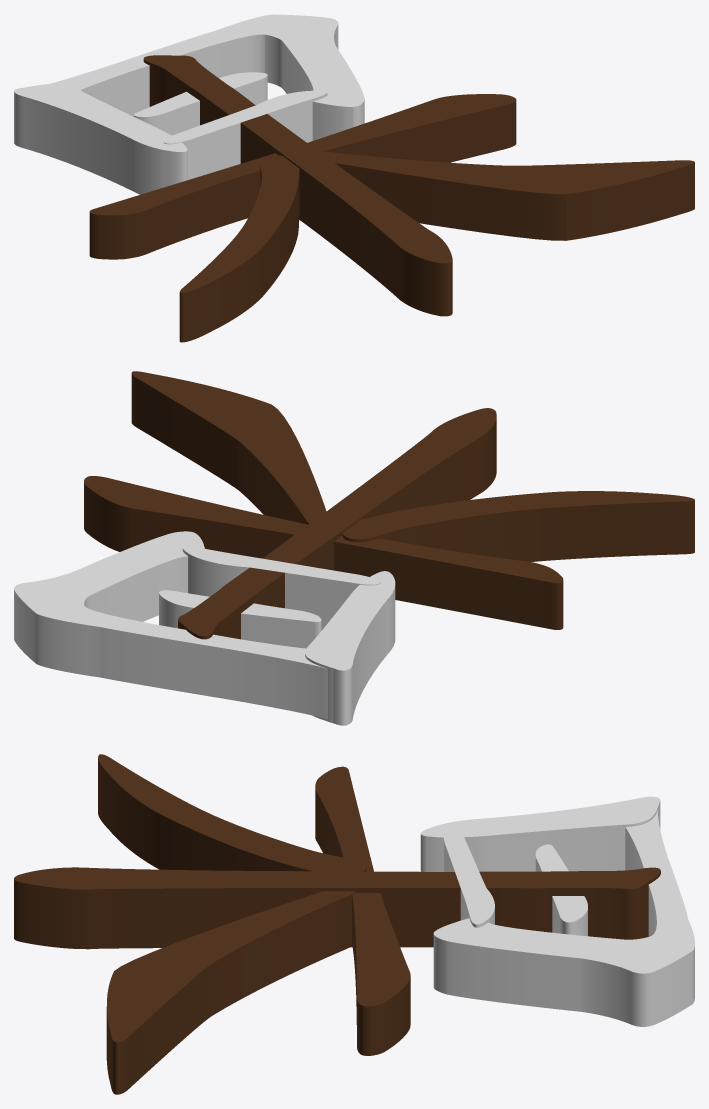
File: hanzi172.fbx
3 renders of one model, top to bottom at view 1: azimuth 30°, elevation 25°; view 2: azimuth 150°, elevation 25°; view 3: azimuth 270°, elevation 25°, orthographic. The views are drawn at different scales.
Parts seen in each view (by area): view 1: Curve.007, Curve.004, Curve.005, Curve.001, Curve, Curve.006, Curve.003, Curve.002; view 2: Curve.001, Curve.004, Curve.006, Curve.005, Curve.007, Curve, Curve.003, Curve.002; view 3: Curve.005, Curve.001, Curve.007, Curve.006, Curve.004, Curve, Curve.003, Curve.002.
Boxes of the visible parts, box(x1,y1,x2,y2) form: Curve.007: box(318, 151, 694, 240); Curve.004: box(89, 94, 516, 259); Curve.005: box(143, 55, 452, 316); Curve.001: box(50, 14, 364, 140); Curve: box(14, 84, 187, 194); Curve.006: box(179, 155, 299, 342); Curve.003: box(164, 90, 327, 179); Curve.002: box(133, 72, 267, 135); Curve.001: box(14, 531, 327, 719); Curve.004: box(84, 476, 563, 629); Curve.006: box(342, 491, 694, 561); Curve.005: box(178, 408, 496, 639); Curve.007: box(131, 371, 326, 524); Curve: box(305, 571, 395, 725); Curve.003: box(182, 546, 380, 630); Curve.002: box(159, 590, 321, 648); Curve.005: box(14, 867, 660, 949); Curve.001: box(433, 809, 694, 1026); Curve.007: box(106, 891, 356, 1094); Curve.006: box(98, 754, 366, 871); Curve.004: box(315, 766, 410, 1055); Curve: box(420, 796, 660, 871); Curve.003: box(443, 829, 494, 927); Curve.002: box(535, 844, 587, 936).
Bounding box in the file's own units: 23.8 × 23.91 × 2.31.
